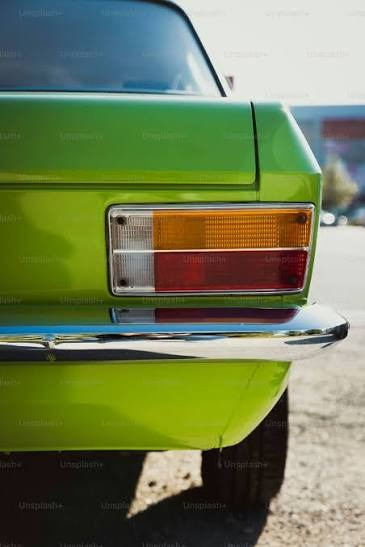car: (1, 6, 338, 445), (7, 6, 341, 425)
